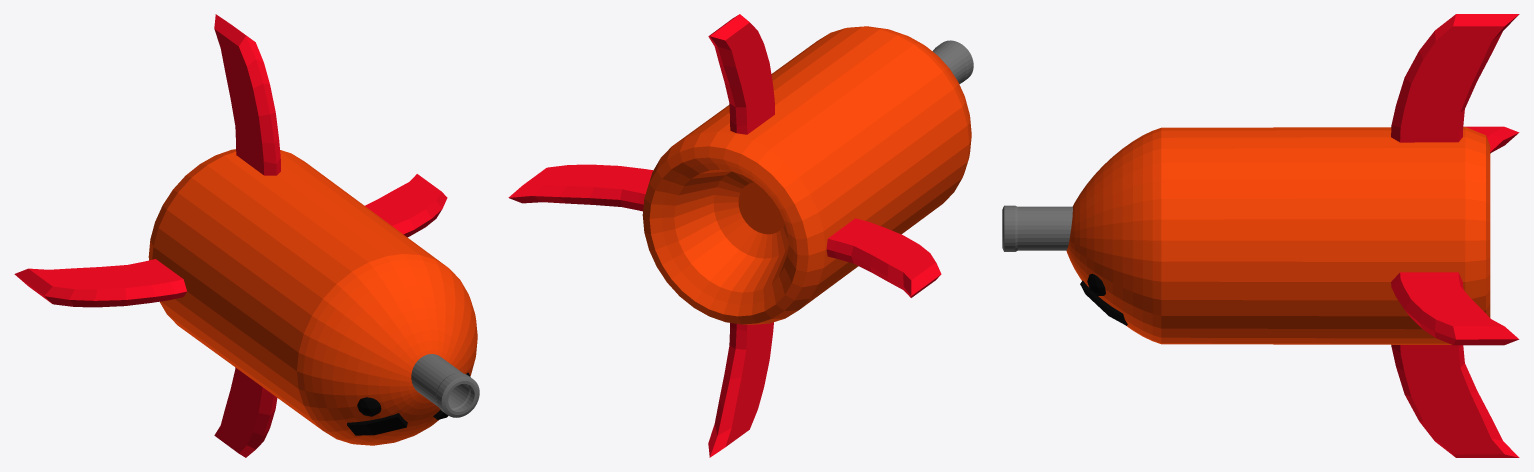
The picture shows the model from 3 angles, left to right: view 1: azimuth 30°, elevation 25°; view 2: azimuth 150°, elevation 25°; view 3: azimuth 270°, elevation 25°; orthographic projection. The views are drawn at different scales.
Parts seen in each view (by area): view 1: Cylinder, Cube.001, Cube, Cylinder.001, Cube.003; view 2: Cylinder, Cube.001, Cube, Cylinder.001; view 3: Cylinder, Cube.001, Cube, Cylinder.001.
Boxes of the visible parts, x1,y1,x2,y2 form: Cylinder: [148, 149, 477, 445]; Cube.001: [214, 14, 280, 457]; Cube: [14, 174, 447, 307]; Cylinder.001: [411, 354, 479, 417]; Cube.003: [347, 413, 407, 435]; Cylinder: [642, 26, 971, 324]; Cube.001: [708, 14, 774, 457]; Cube: [508, 164, 941, 297]; Cylinder.001: [932, 40, 973, 83]; Cylinder: [1066, 127, 1490, 344]; Cube.001: [1391, 14, 1519, 457]; Cube: [1391, 126, 1519, 345]; Cylinder.001: [1002, 205, 1072, 251].
Bounding box in the file's own units: 10.4 × 10.4 × 10.98.
